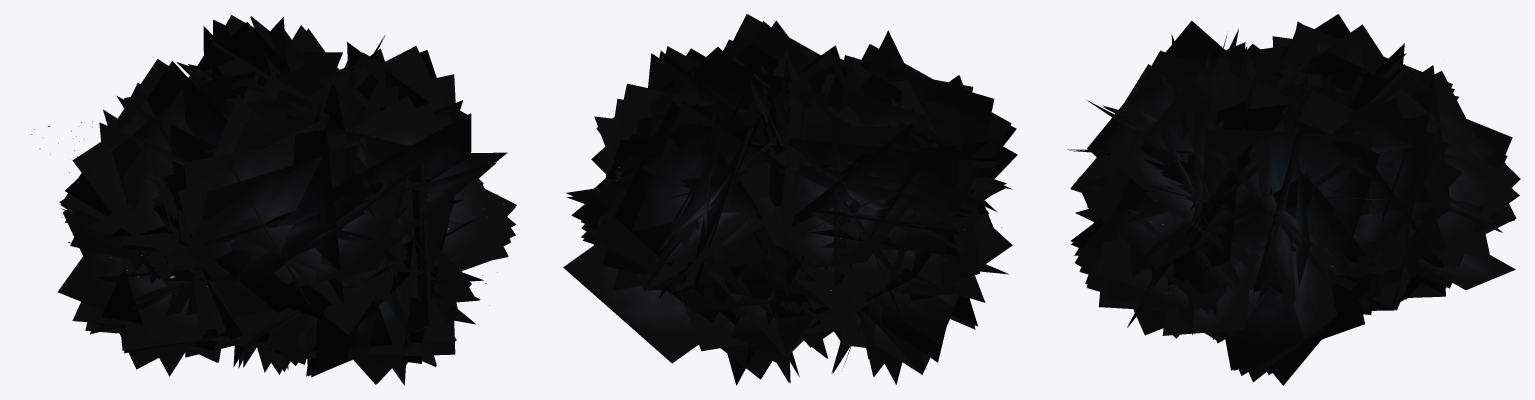
The model's file is Univers.fbx.
3 renders of one model, left to right at view 1: azimuth 30°, elevation 25°; view 2: azimuth 150°, elevation 25°; view 3: azimuth 270°, elevation 25°, orthographic. The views are drawn at different scales.
Parts seen in each view (by area): view 1: Bloom; view 2: Bloom; view 3: Bloom.
Boxes of the visible parts, x1,y1,x2,y2 form: Bloom: (58,15,516,385); Bloom: (563,14,1017,385); Bloom: (1067,14,1520,385).
Size of the model in its own units: 67483 by 69525 by 43627.
